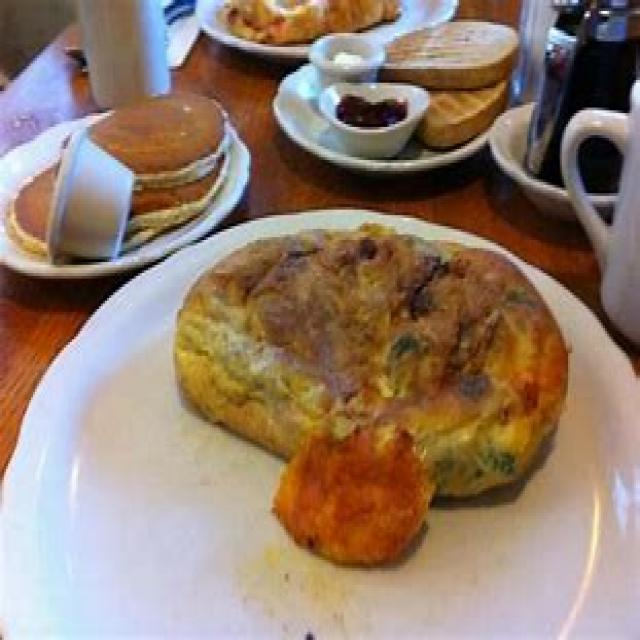Omelette: (171, 223, 568, 500)
Pancakes: (4, 83, 229, 248)
